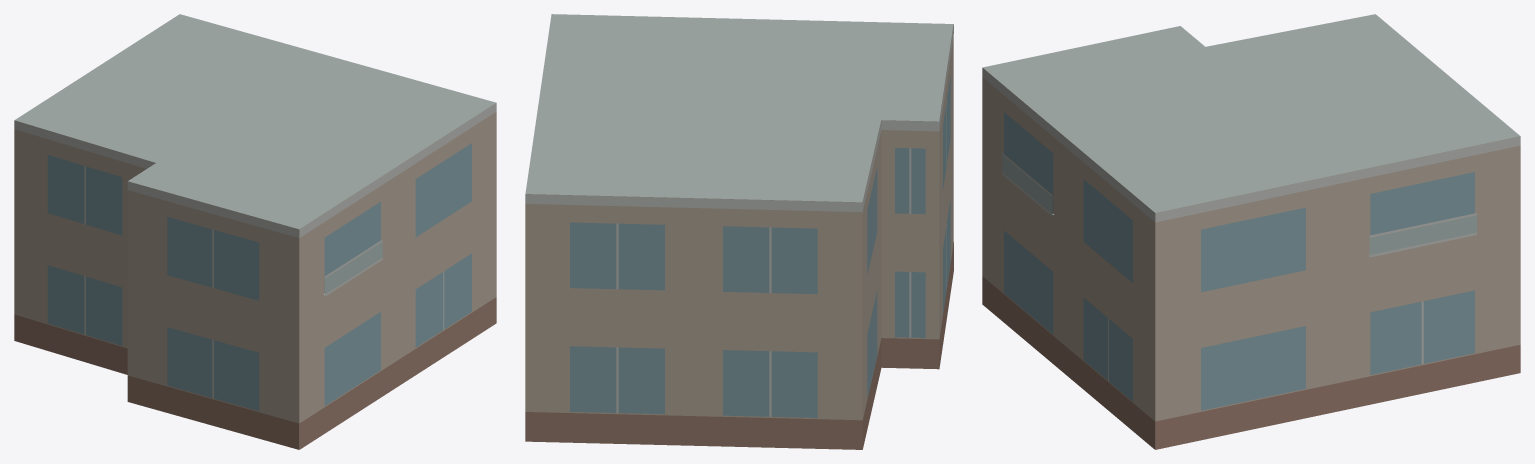
File: survey-upis-32809876.glb
The picture shows the model from 3 angles, left to right: view 1: azimuth 30°, elevation 25°; view 2: azimuth 150°, elevation 25°; view 3: azimuth 270°, elevation 25°; orthographic projection. The views are drawn at different scales.
Parts seen in each view (by area): view 1: survey-upis-32809876.tmp; view 2: survey-upis-32809876.tmp; view 3: survey-upis-32809876.tmp.
Boxes of the visible parts, left/top/right/bottom form: survey-upis-32809876.tmp: left=14, top=14, right=496, bottom=449; survey-upis-32809876.tmp: left=525, top=14, right=953, bottom=449; survey-upis-32809876.tmp: left=982, top=14, right=1520, bottom=449.
Bounding box in the file's own units: 11 × 6.1 × 12.57.
